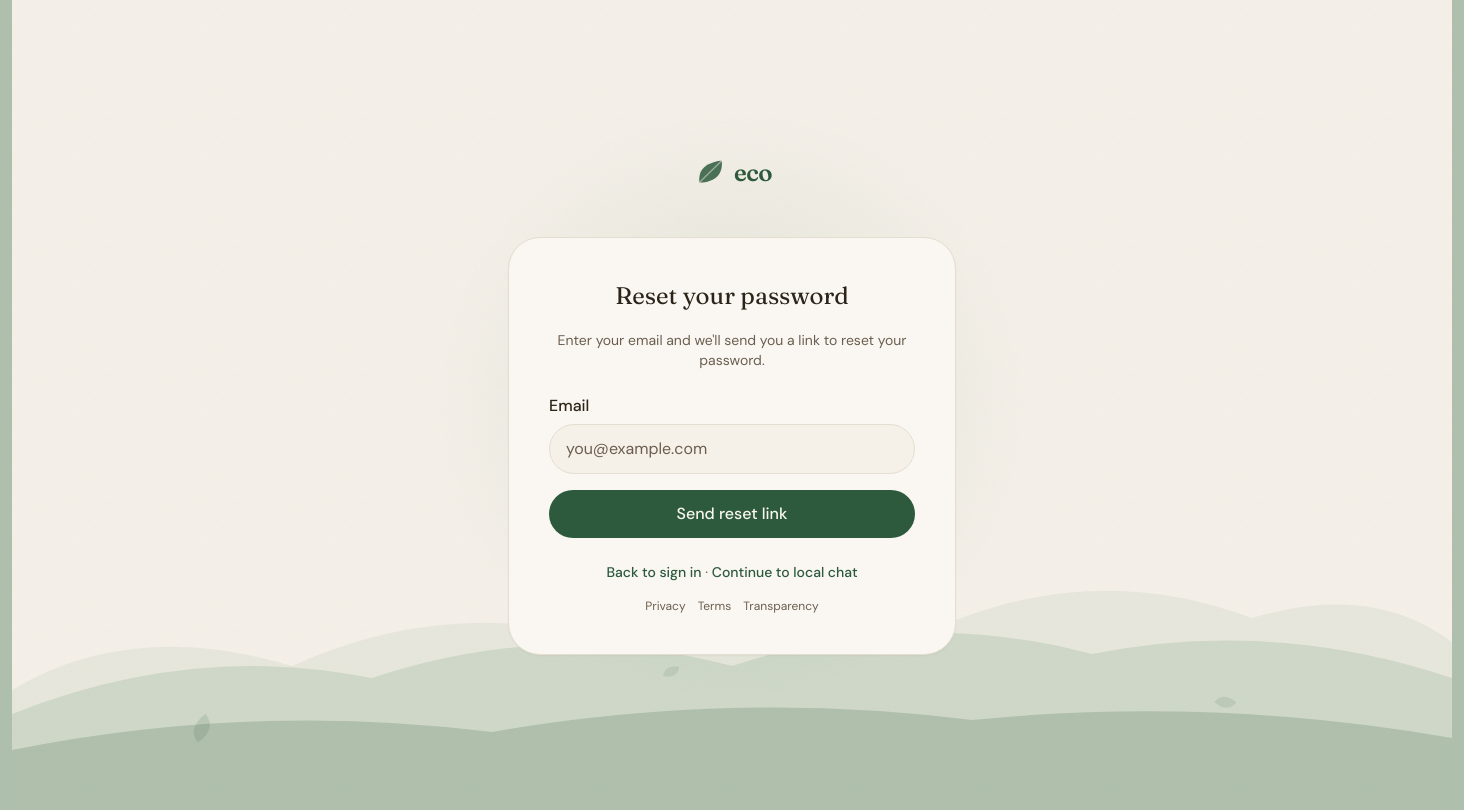
Test: ForgotPasswordPage › shows success plus sign-in and local-chat recovery paths
Type "friend@eco.local" into the field labelled "Email" at (732, 448), box [549,424,915,474]
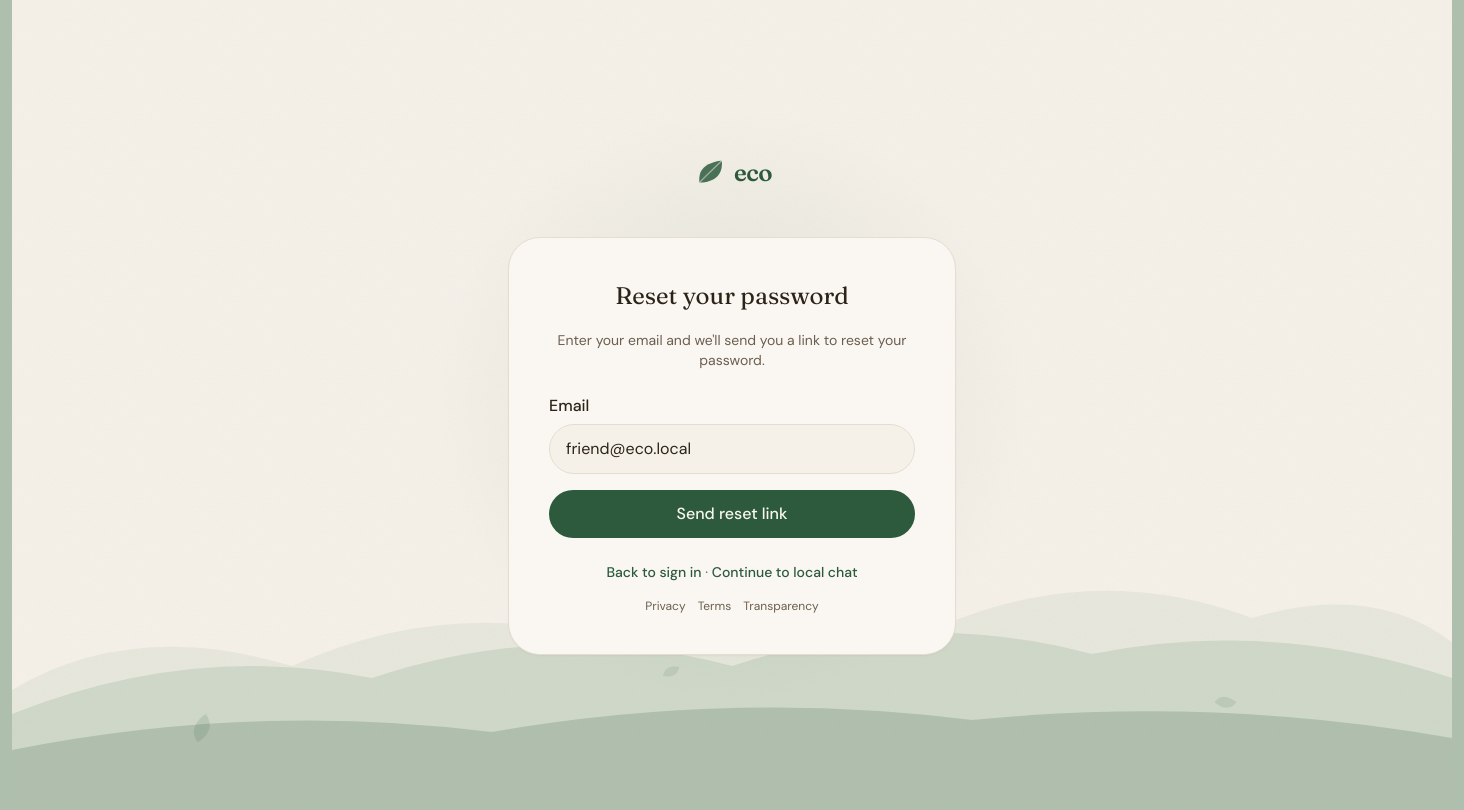
Click the button "Send reset link" at (732, 514), box [549,490,915,538]
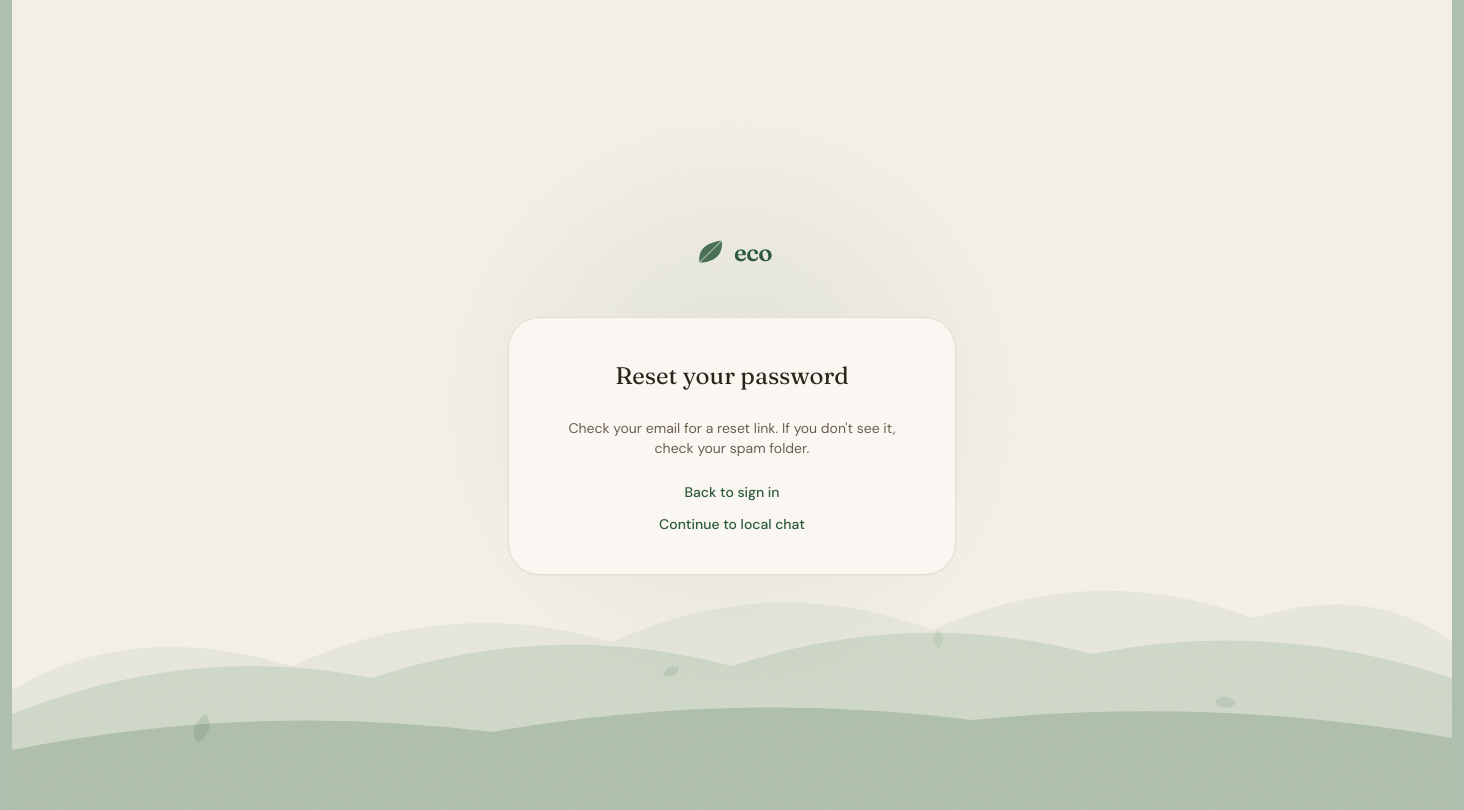
Expected: the message shows "Check your email", [568,418,895,456]
